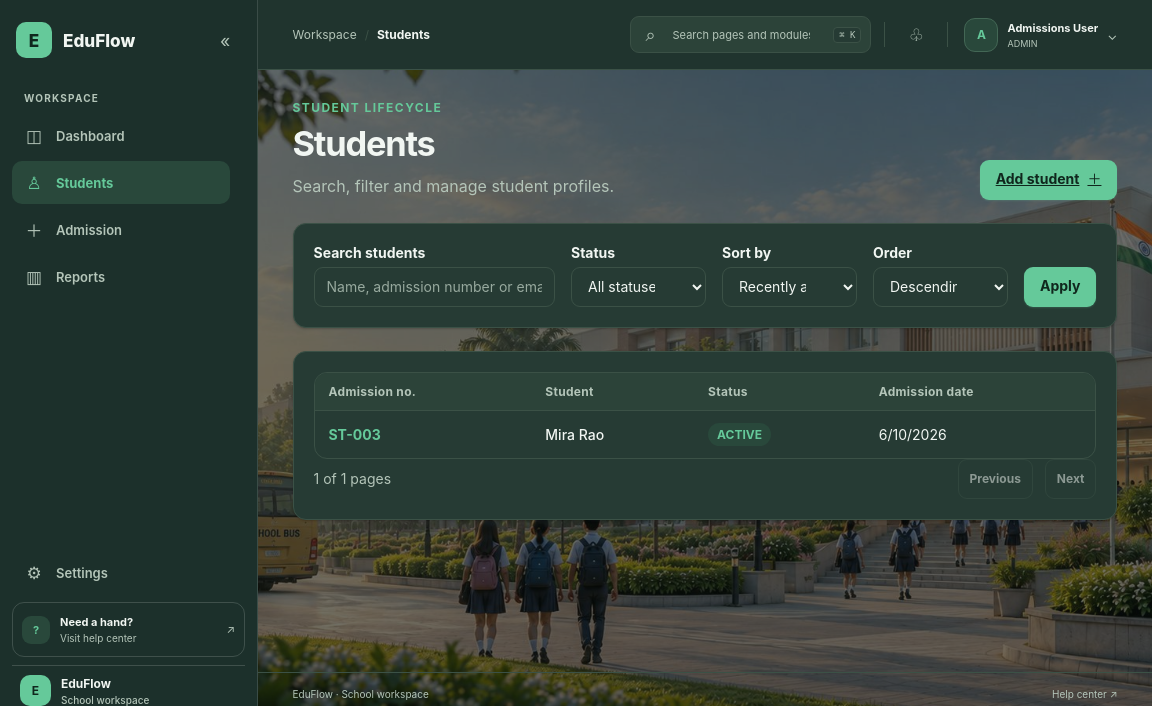
Test: student and admission pages › loads the student directory and navigates to create student
Expected: the link "ST-003" is shown, x1=328 y1=426 x2=381 y2=443
Expected: the text "Mira Rao" is shown, x1=545 y1=426 x2=604 y2=443
Click the link "Add student ＋".
click(1049, 180)  # box x1=980 y1=160 x2=1118 y2=200
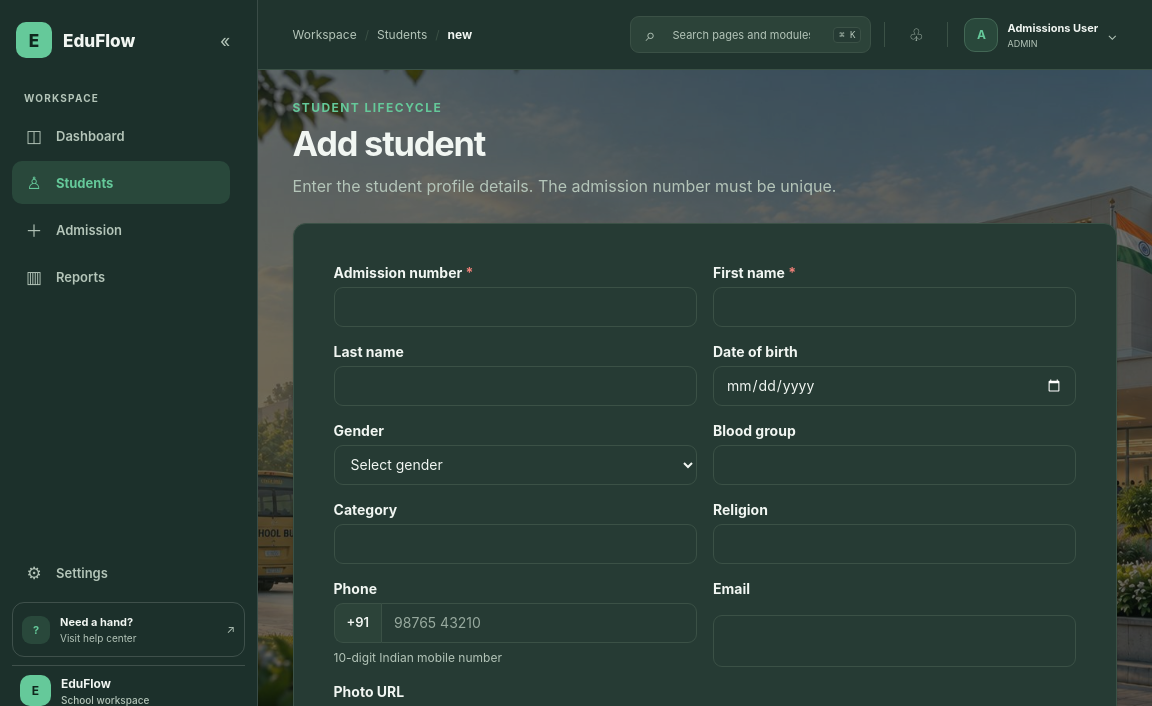
Expected: the heading "Add student" is shown, x1=292 y1=123 x2=485 y2=164
